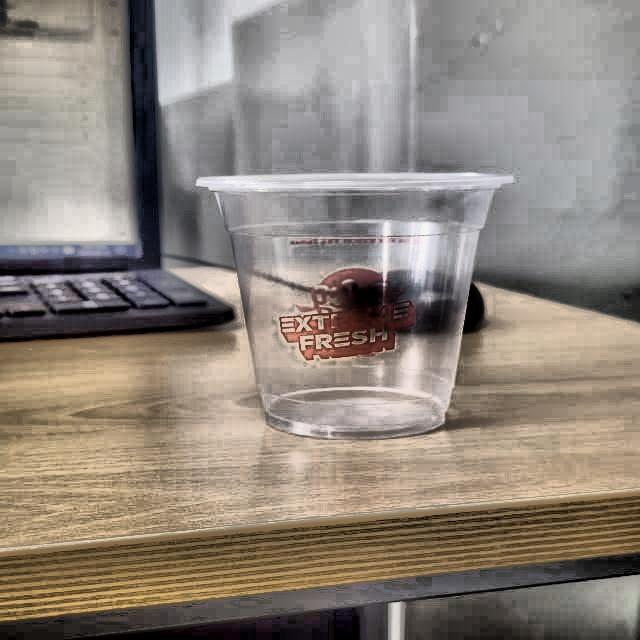plastic cup: (192, 172, 517, 440)
